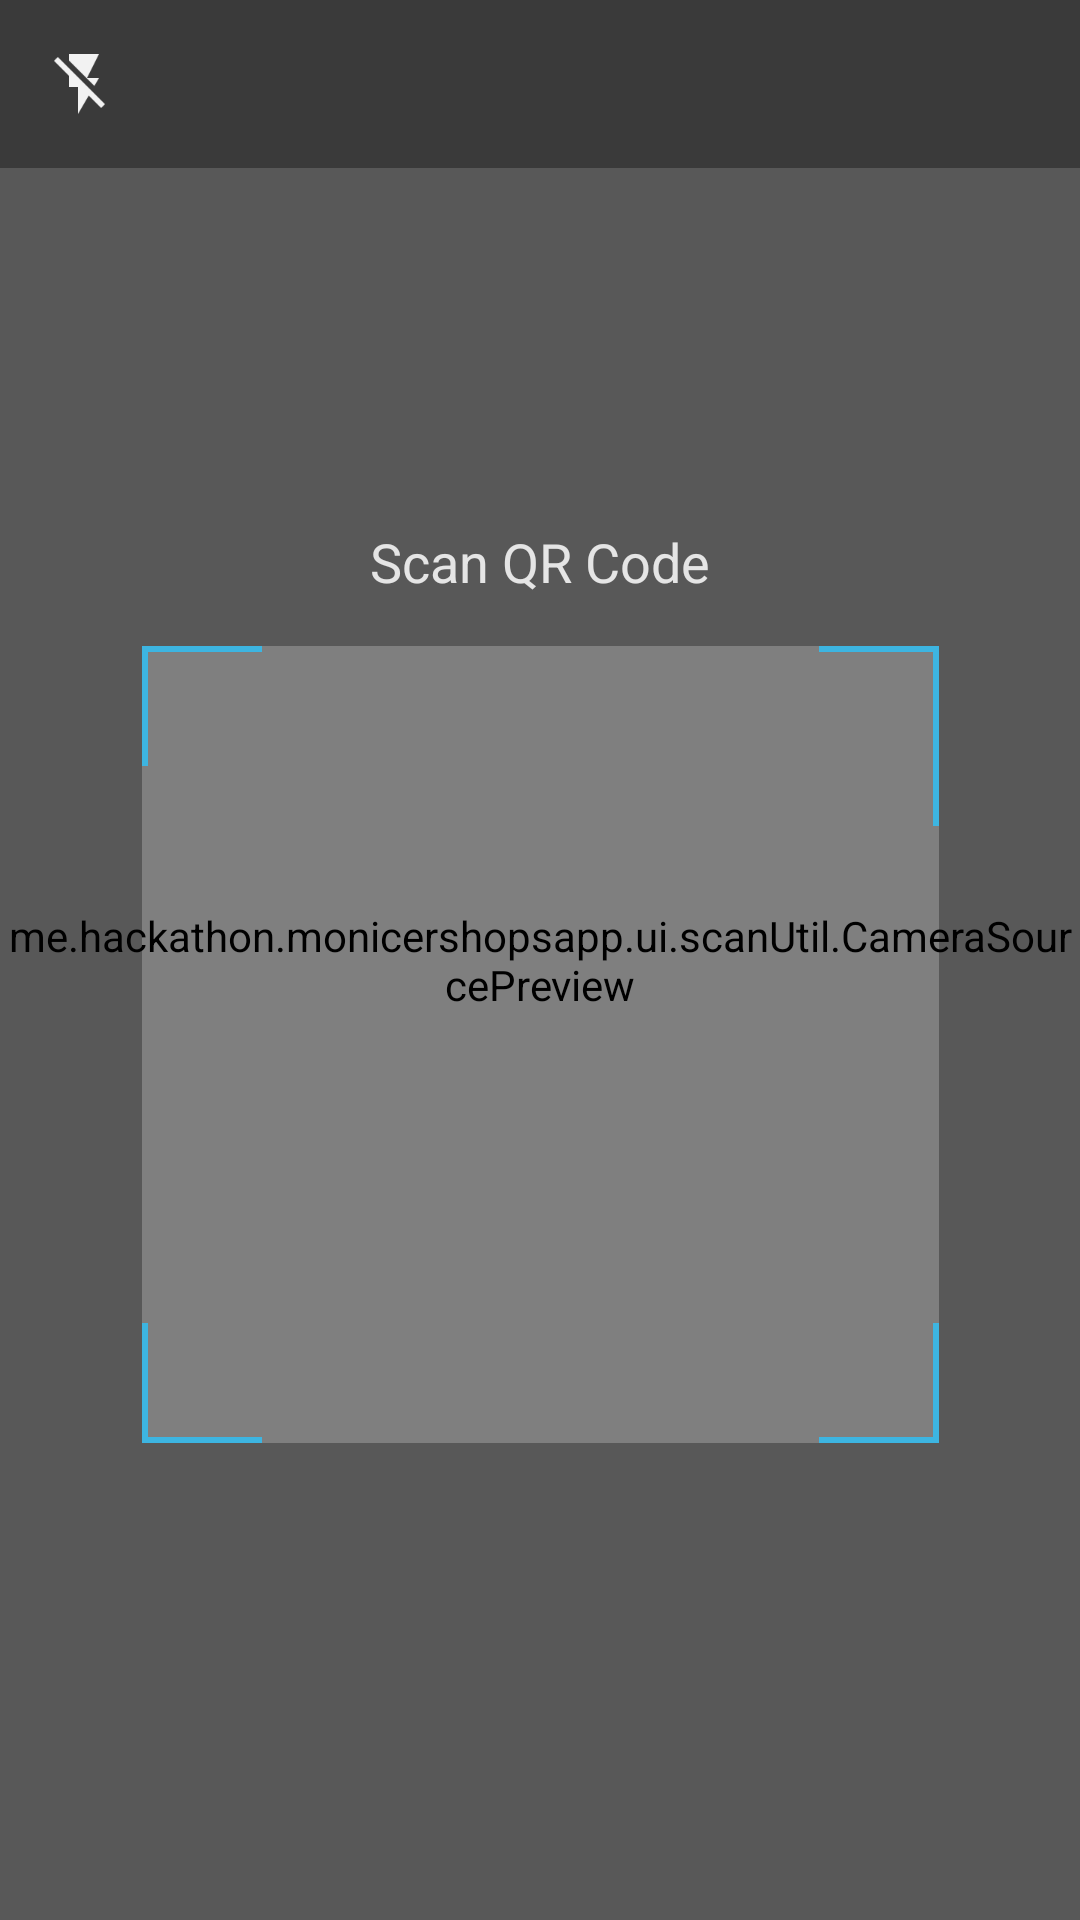

Where to tap for icons on this 1080 x 1920 app screen, as (x,y):
flash off: (79,84)
